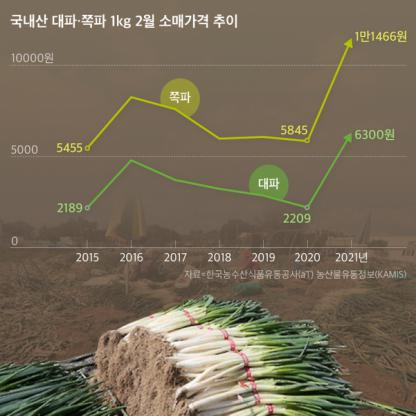green onion: (105, 305, 340, 415)
